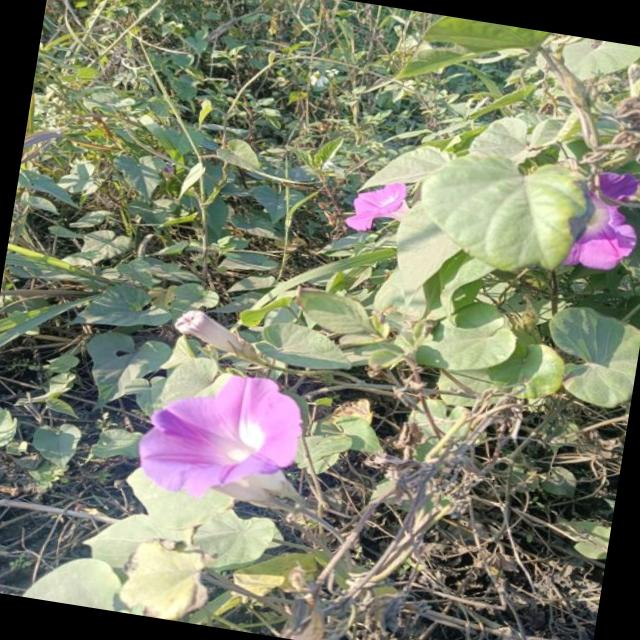ipomoea: (127, 358, 315, 516), (557, 161, 640, 280), (338, 171, 417, 243)
